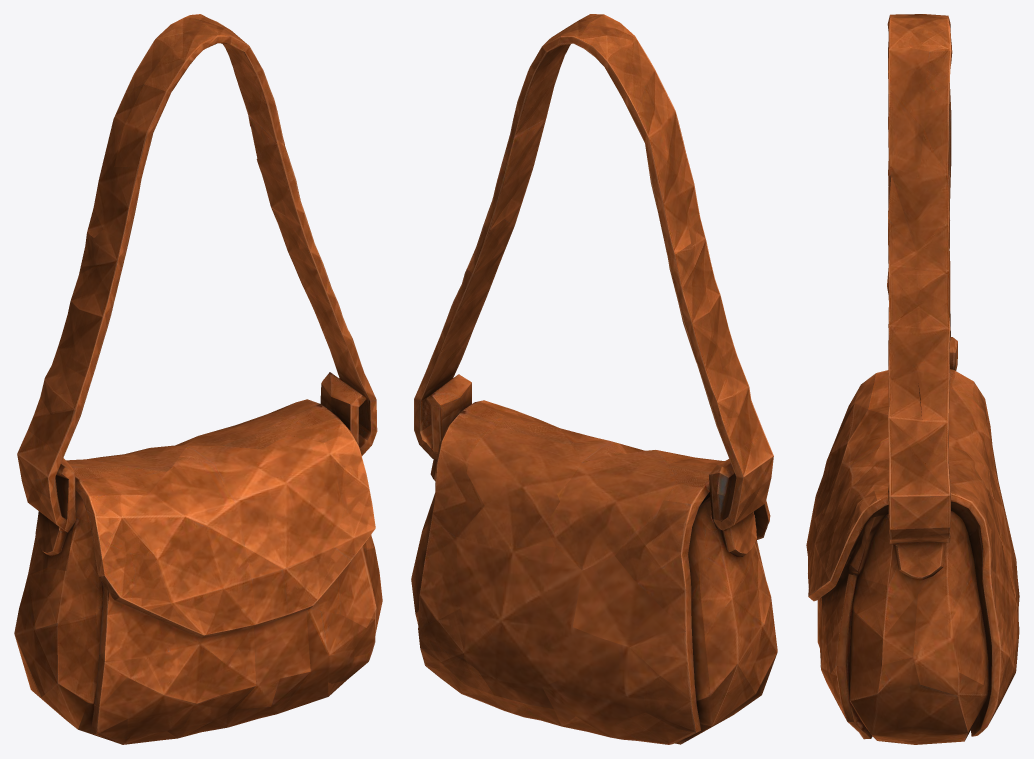
File: shepherd-bag.glb
3 renders of one model, left to right at view 1: azimuth 30°, elevation 25°; view 2: azimuth 150°, elevation 25°; view 3: azimuth 270°, elevation 25°, orthographic.
Bounding box in the file's own units: 0.9769 × 1.9 × 0.5383.
Materials: 1 (1 with a texture image).
